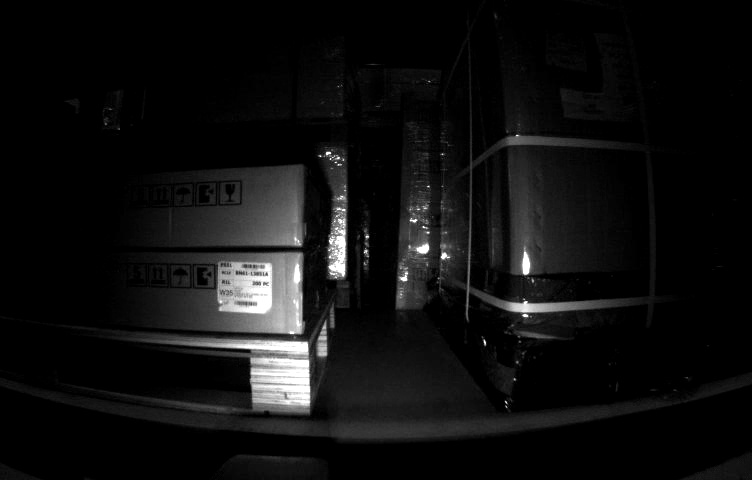True Barcode: (214, 258, 272, 315), (547, 28, 592, 68)
